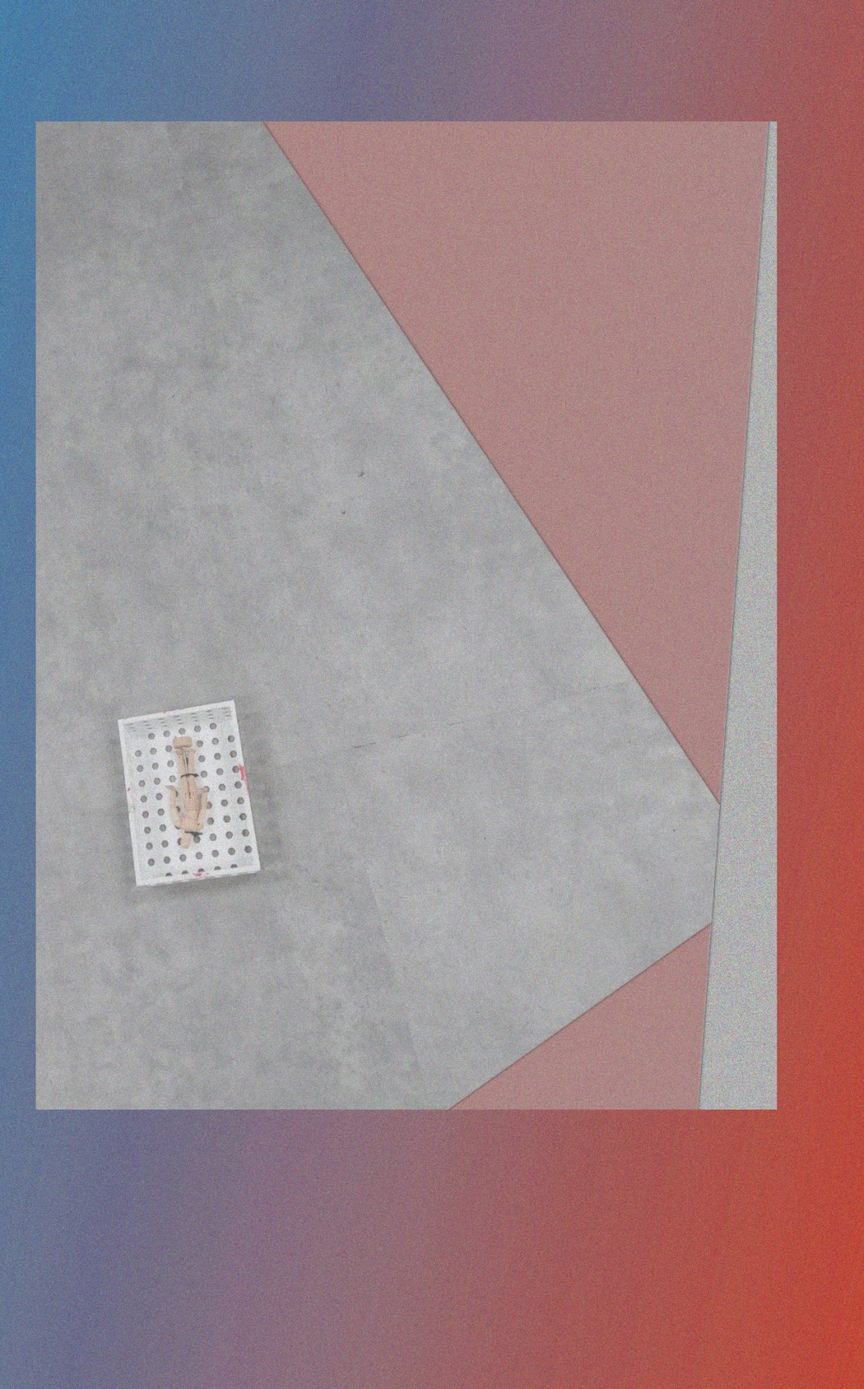basket: (113, 693, 264, 899)
mannequin: (166, 731, 213, 857)
